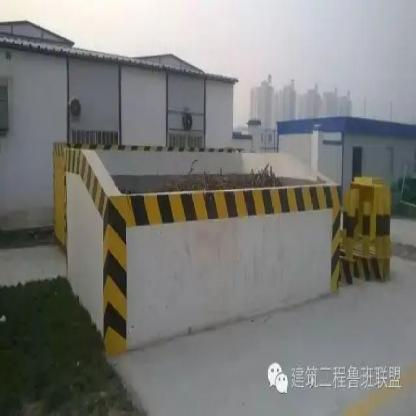rebar: (118, 154, 314, 193)
